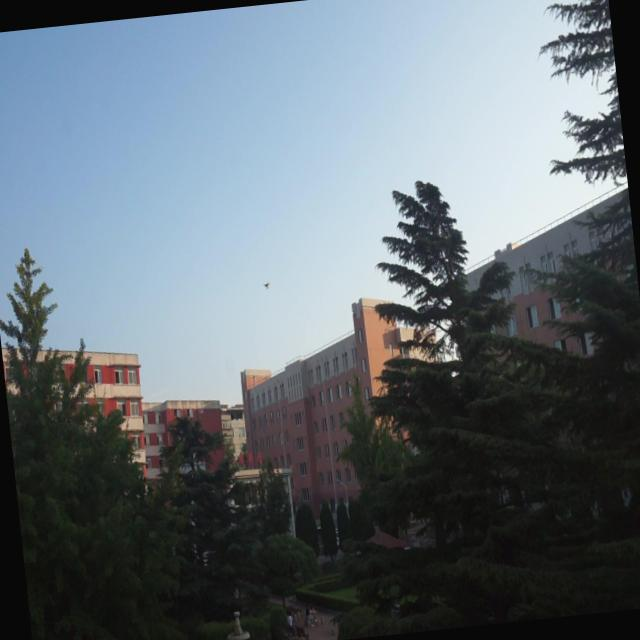drone: (260, 275, 272, 292)
